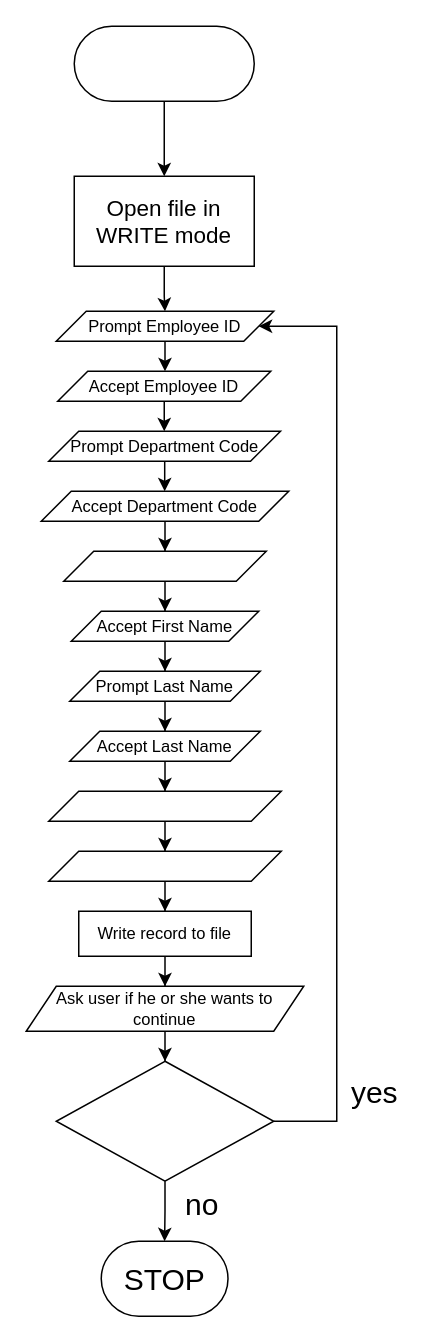
This 438x1343 diagram has some shape labels left out. Here are the shapes that lost their labels. From the top down, the centre of each, then its label:
the point at 163,63: Project 1
the point at 164,565: Prompt First Name
the point at 164,805: Prompt Years of Service
the point at 164,865: Accept Years of Service
the point at 164,1120: User answer
